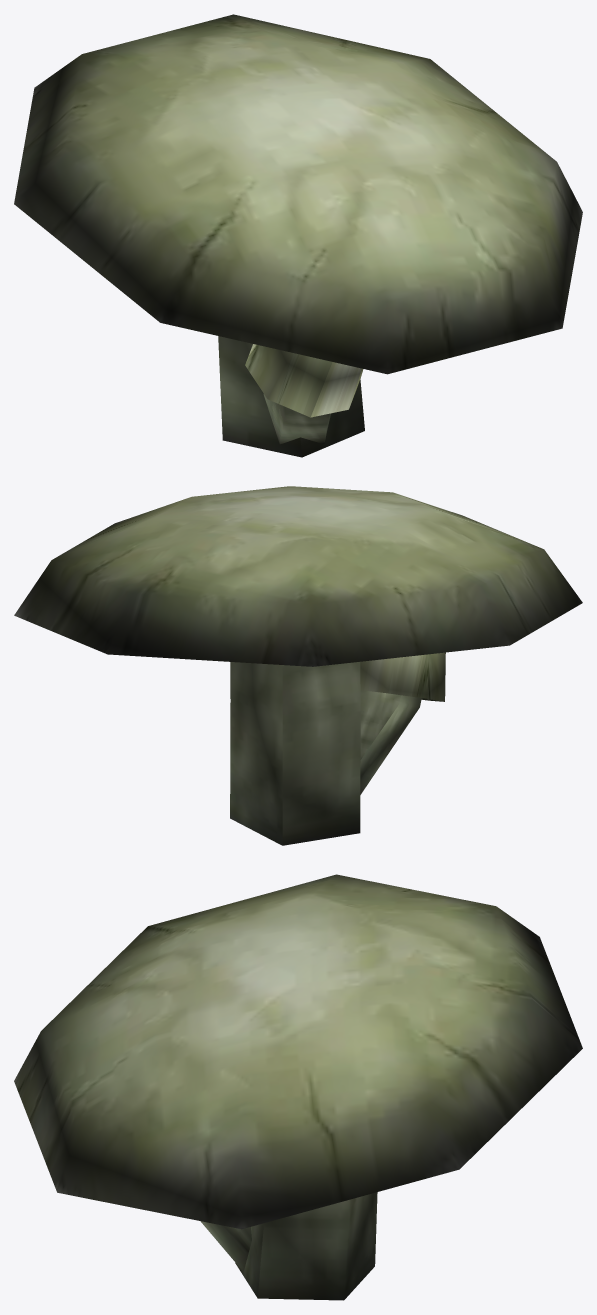
The model's file is ITPL_MUSHROOM_02.glb.
The picture shows the model from 3 angles, top to bottom: view 1: azimuth 30°, elevation 25°; view 2: azimuth 150°, elevation 25°; view 3: azimuth 270°, elevation 25°; orthographic projection. The views are drawn at different scales.
Parts seen in each view (by area): view 1: Mesh; view 2: Mesh; view 3: Mesh.
Boxes of the visible parts, box(x1,y1,x2,y2) form: Mesh: box(14, 14, 582, 457); Mesh: box(14, 486, 582, 845); Mesh: box(14, 874, 582, 1300).
Size of the model in its own units: 0.6296 by 0.4019 by 0.6259.
2 materials, 2 textured.
